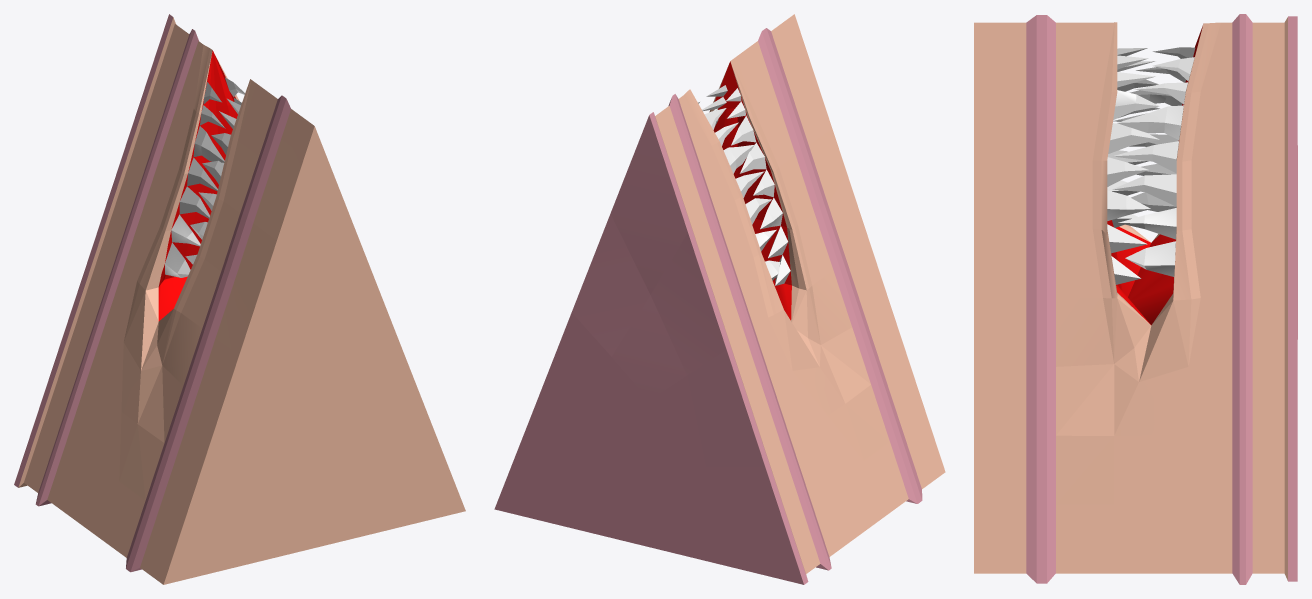
File: Cake.obj
3 renders of one model, left to right at view 1: azimuth 30°, elevation 25°; view 2: azimuth 150°, elevation 25°; view 3: azimuth 270°, elevation 25°, orthographic. The views are drawn at different scales.
Parts seen in each view (by area): view 1: Cake; view 2: Cake; view 3: Cake.
Boxes of the visible parts, <box> form: Cake: <box>14,14,465,584</box>; Cake: <box>494,14,945,584</box>; Cake: <box>974,14,1297,584</box>.
Size of the model in its own units: 3.11 by 4.15 by 2.5.
